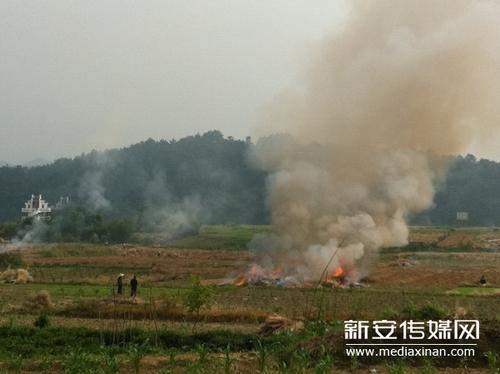smoke: (251, 11, 448, 285)
